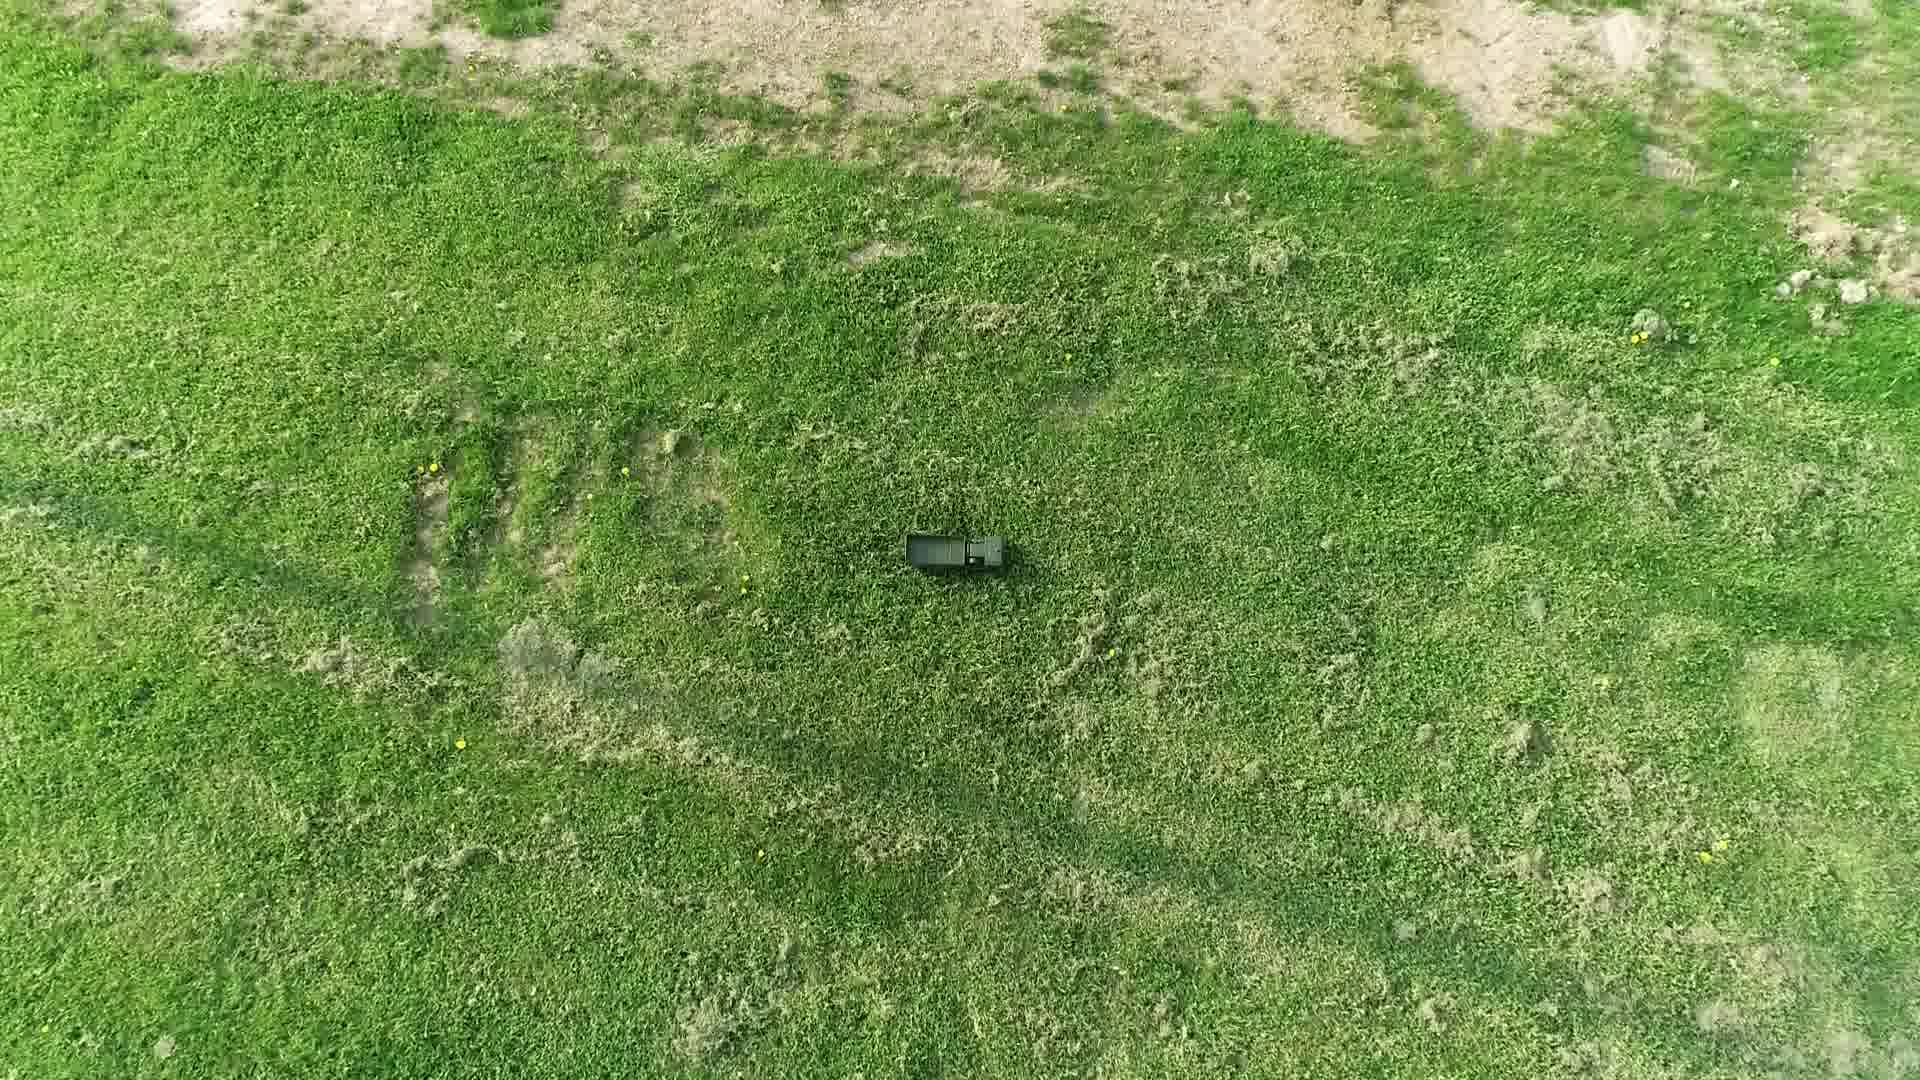transporter9: (901, 527, 1022, 579)
